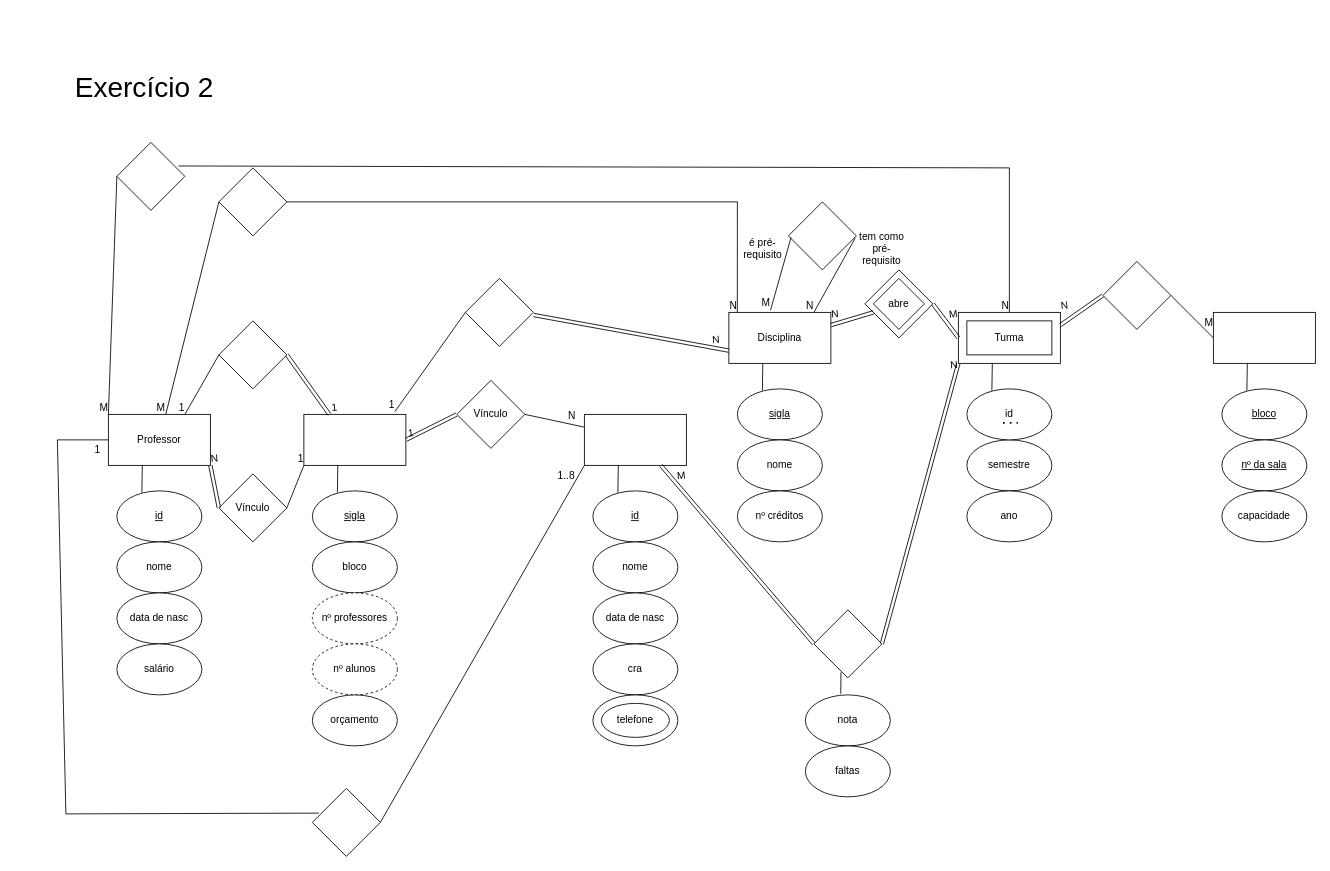
Some shapes in this 1330 by 871 pixel diagram are drawn without their labels. The shapes that lost their labels are listed below. From the top down, each one's centre as x and y in pixels, then its label:
(x=150, y=176): associado
(x=252, y=201): ministra
(x=822, y=235): Pré-requisito
(x=499, y=312): oferece
(x=1136, y=295): tem
(x=252, y=354): Diretor
(x=1264, y=337): Sala da aula
(x=354, y=439): Faculdade
(x=635, y=439): Aluno
(x=847, y=643): matriculam
(x=346, y=822): orienta IC
